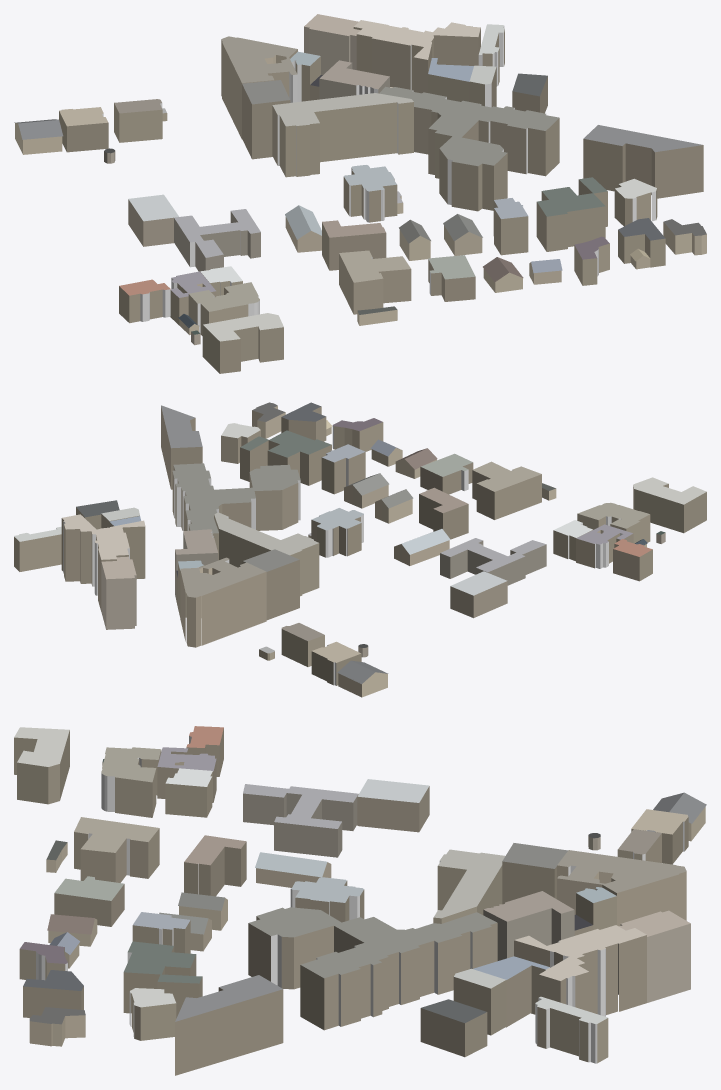
The picture shows the model from 3 angles, top to bottom: view 1: azimuth 30°, elevation 25°; view 2: azimuth 150°, elevation 25°; view 3: azimuth 270°, elevation 25°; orthographic projection. The views are drawn at different scales.
Parts seen in each view (by area): view 1: tuile; view 2: tuile; view 3: tuile.
Boxes of the visible parts, <box> form: tuile: <box>14,14,706,373</box>; tuile: <box>14,402,706,697</box>; tuile: <box>14,726,706,1075</box>.
Bounding box in the file's own units: 275 × 28.02 × 253.
